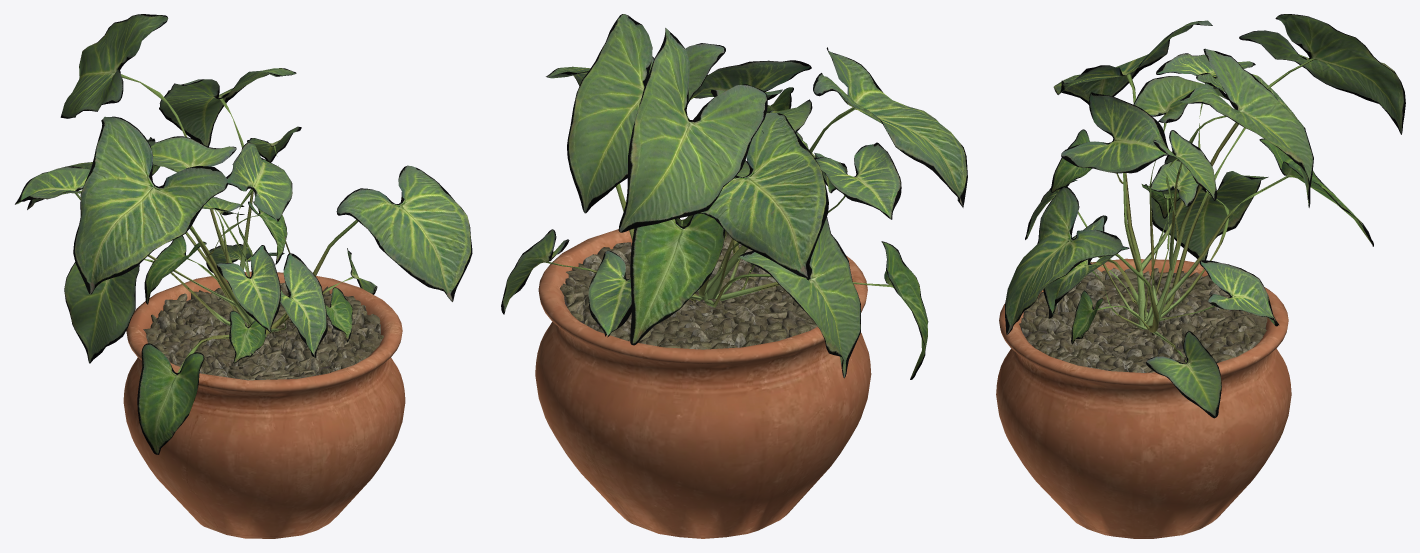
The model's file is potted_plant_02.glb.
The picture shows the model from 3 angles, left to right: view 1: azimuth 30°, elevation 25°; view 2: azimuth 150°, elevation 25°; view 3: azimuth 270°, elevation 25°; orthographic projection. The views are drawn at different scales.
Visible parts, largest first — view 1: Circle.001, Circle, low.008; view 2: Circle.001, Circle, low.008; view 3: Circle.001, Circle, low.008.
Part boxes in pixels (<box>): Circle.001: <box>15,14,472,454</box>; Circle: <box>123,271,405,538</box>; low.008: <box>143,282,383,380</box>; Circle.001: <box>501,14,967,379</box>; Circle: <box>535,219,871,538</box>; low.008: <box>560,233,817,349</box>; Circle.001: <box>1005,14,1405,418</box>; Circle: <box>996,258,1291,538</box>; low.008: <box>1019,268,1267,372</box>.
Size of the model in its own units: 0.7012 by 0.8411 by 0.6574.
2 materials, 2 textured.
